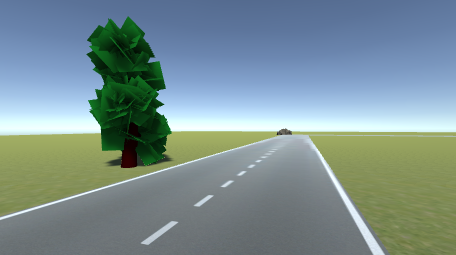rock: (277, 128, 292, 135)
tree: (85, 15, 171, 169)
